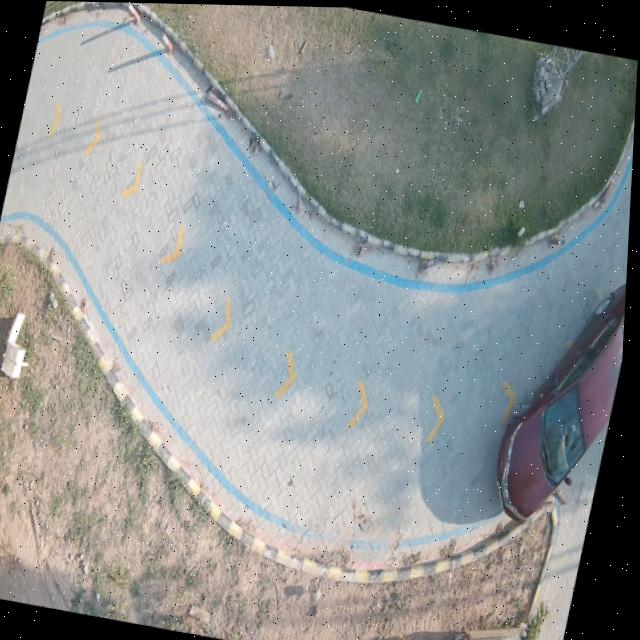car: (501, 282, 629, 518)
